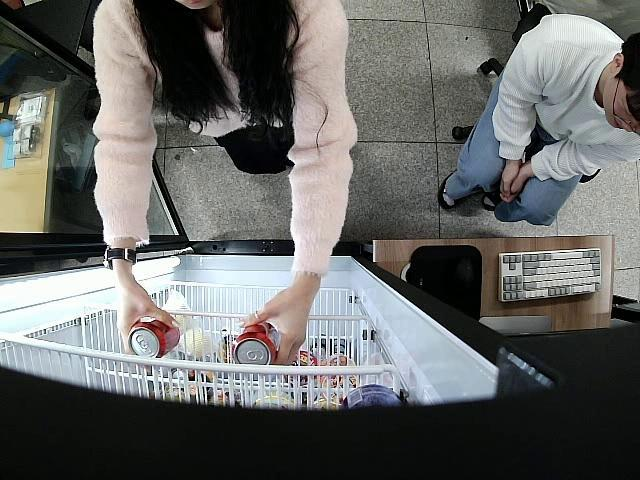11_cocaColaZero: (232, 321, 280, 368), (128, 318, 179, 356)
